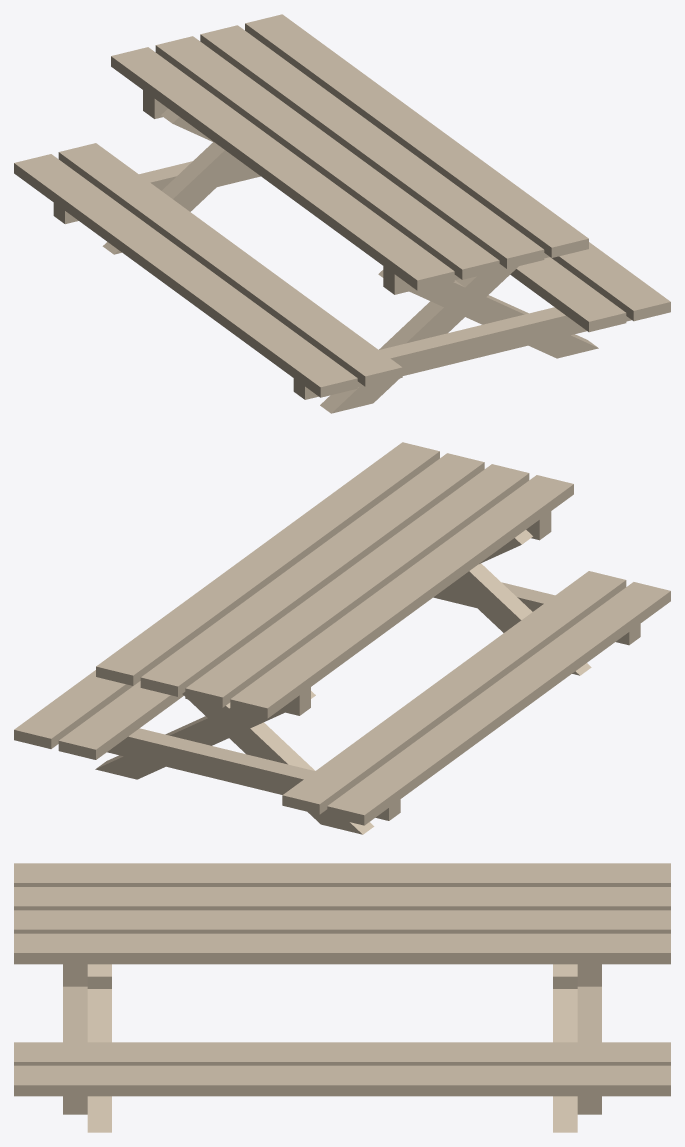
The model's file is table.glb.
3 renders of one model, top to bottom at view 1: azimuth 30°, elevation 25°; view 2: azimuth 150°, elevation 25°; view 3: azimuth 270°, elevation 25°, orthographic. The views are drawn at different scales.
Visible parts, largest first — view 1: Mesh_Mesh_head_geo.001_lambert2SG.001; view 2: Mesh_Mesh_head_geo.001_lambert2SG.001; view 3: Mesh_Mesh_head_geo.001_lambert2SG.001.
Boxes of the visible parts, x1=… form: Mesh_Mesh_head_geo.001_lambert2SG.001: x1=14, y1=14, x2=670, y2=413; Mesh_Mesh_head_geo.001_lambert2SG.001: x1=14, y1=442, x2=670, y2=834; Mesh_Mesh_head_geo.001_lambert2SG.001: x1=14, y1=863, x2=670, y2=1132.
Size of the model in its own units: 0.0705 by 0.028 by 0.1068.
